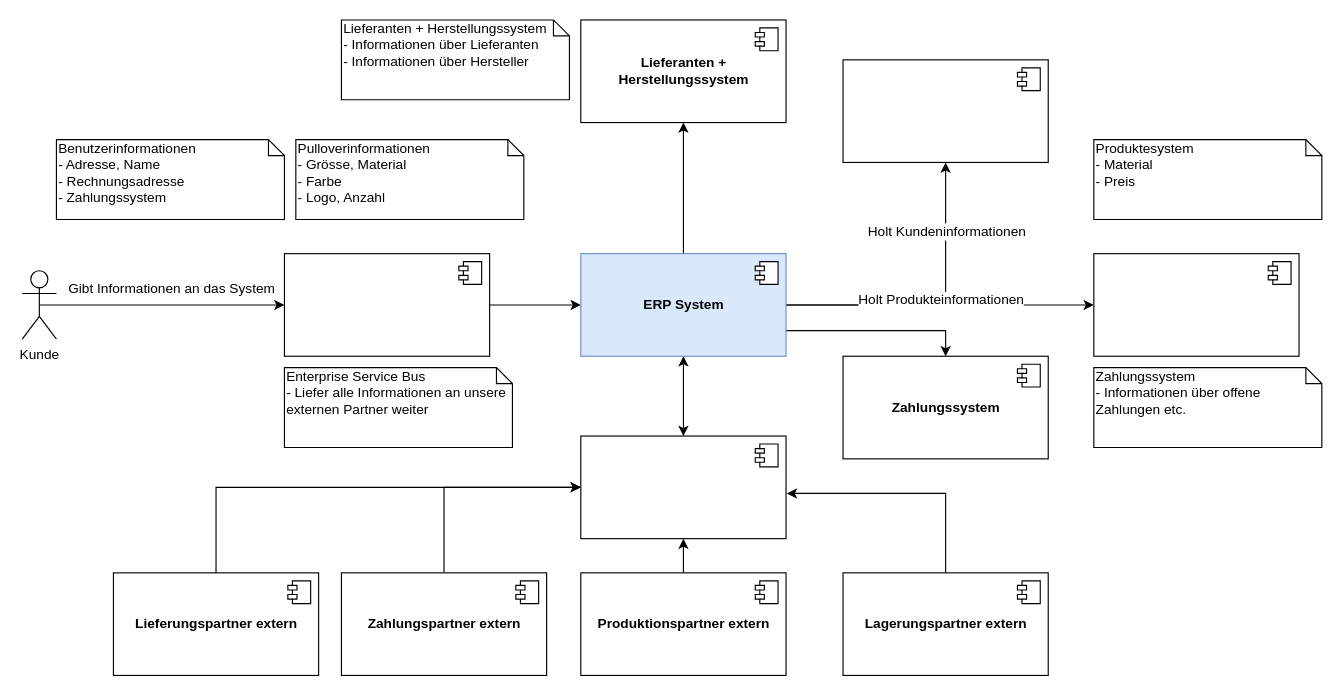
Some shapes in this 1342 by 695 pixel diagram are drawn without their labels. The centre of each missing label's shape, as x and y in pixels:
"Enterprise Service Bus" belongs at (683,487).
"Kundenverwaltungssystem" belongs at (945,110).
"Produktesystem" belongs at (1196,304).
"WebShop Schnittstelle zum Benutzer" belongs at (386,304).
